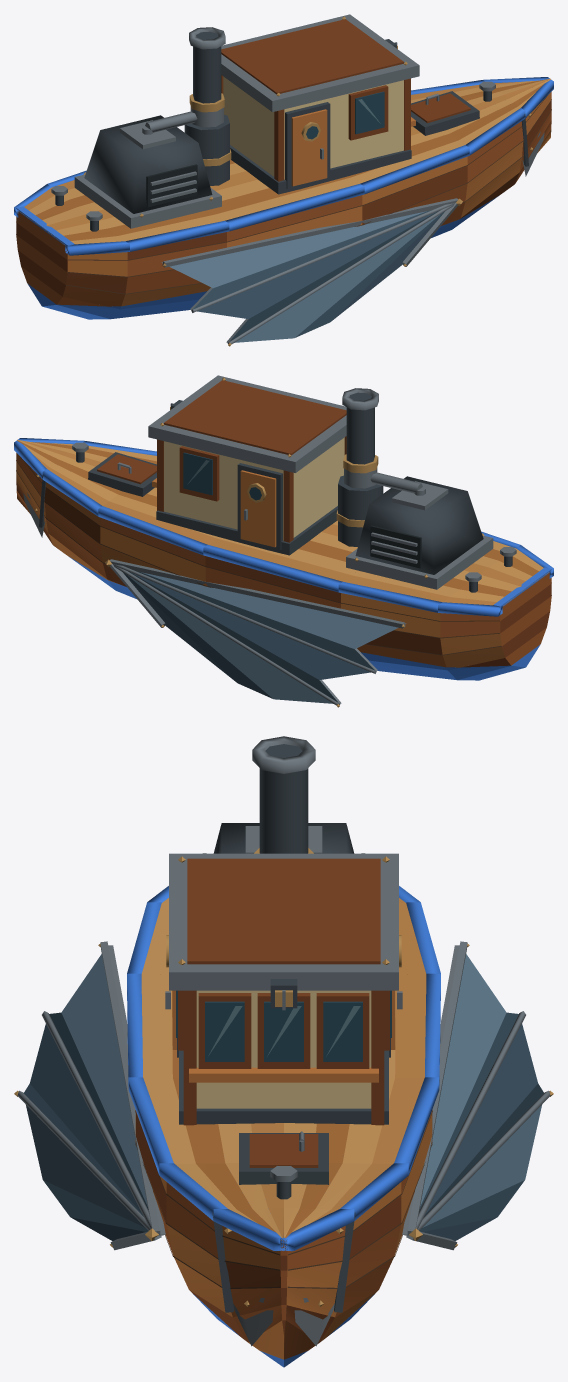
3 renders of one model, top to bottom at view 1: azimuth 30°, elevation 25°; view 2: azimuth 150°, elevation 25°; view 3: azimuth 270°, elevation 25°, orthographic. The views are drawn at different scales.
Visible parts, largest first — view 1: 飞鱼 · Steam Flying Fish; view 2: 飞鱼 · Steam Flying Fish; view 3: 飞鱼 · Steam Flying Fish.
Boxes of the visible parts, left/top/right/bottom form: 飞鱼 · Steam Flying Fish: left=14, top=14, right=553, bottom=346; 飞鱼 · Steam Flying Fish: left=14, top=375, right=553, bottom=707; 飞鱼 · Steam Flying Fish: left=14, top=736, right=553, bottom=1367.
Size of the model in its own units: 1.2 by 0.601 by 0.667.
